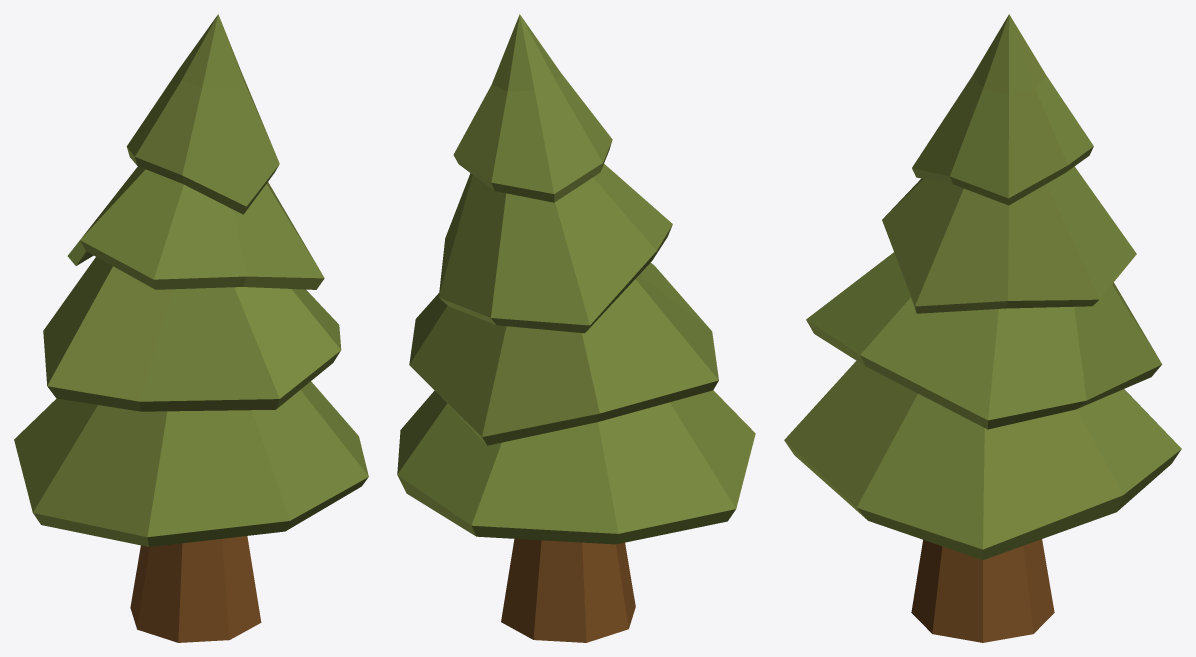
File: PineTreeSmall.fbx
3 renders of one model, left to right at view 1: azimuth 30°, elevation 25°; view 2: azimuth 150°, elevation 25°; view 3: azimuth 270°, elevation 25°, orthographic. The views are drawn at different scales.
Visible parts, largest first — view 1: Cylinder.1439; view 2: Cylinder.1439; view 3: Cylinder.1439.
Boxes of the visible parts, <box> form: Cylinder.1439: <box>14,14,368,642</box>; Cylinder.1439: <box>397,14,755,642</box>; Cylinder.1439: <box>784,14,1181,642</box>.
Size of the model in its own units: 159 by 272 by 159.
